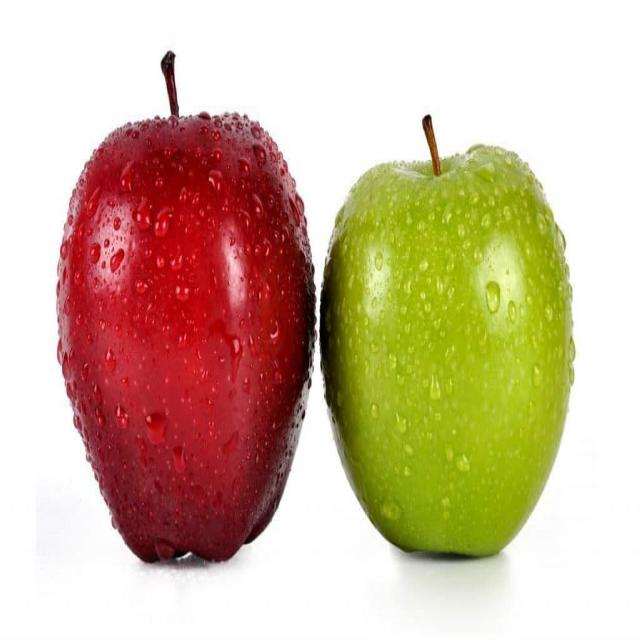fresh_apple: (56, 114, 316, 568), (318, 144, 576, 564)
